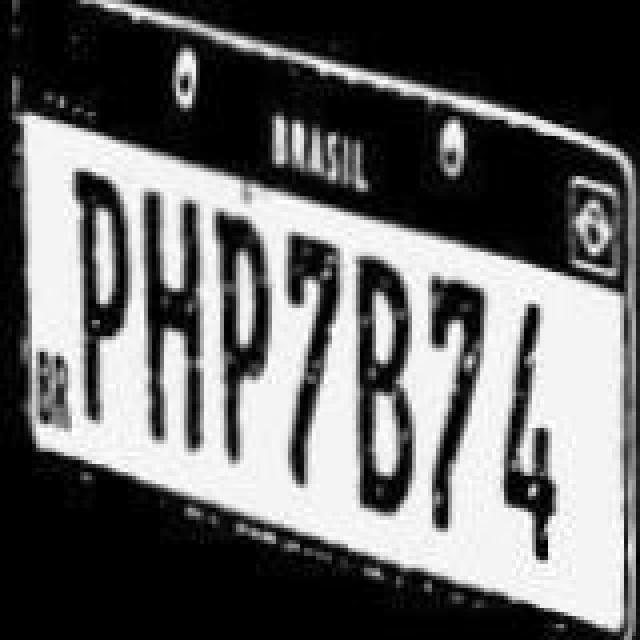4: (498, 302, 558, 562)
7: (424, 274, 488, 534), (284, 234, 344, 490)
B: (352, 258, 416, 518)
H: (138, 188, 210, 452)
P: (210, 208, 274, 464), (66, 170, 130, 422)
